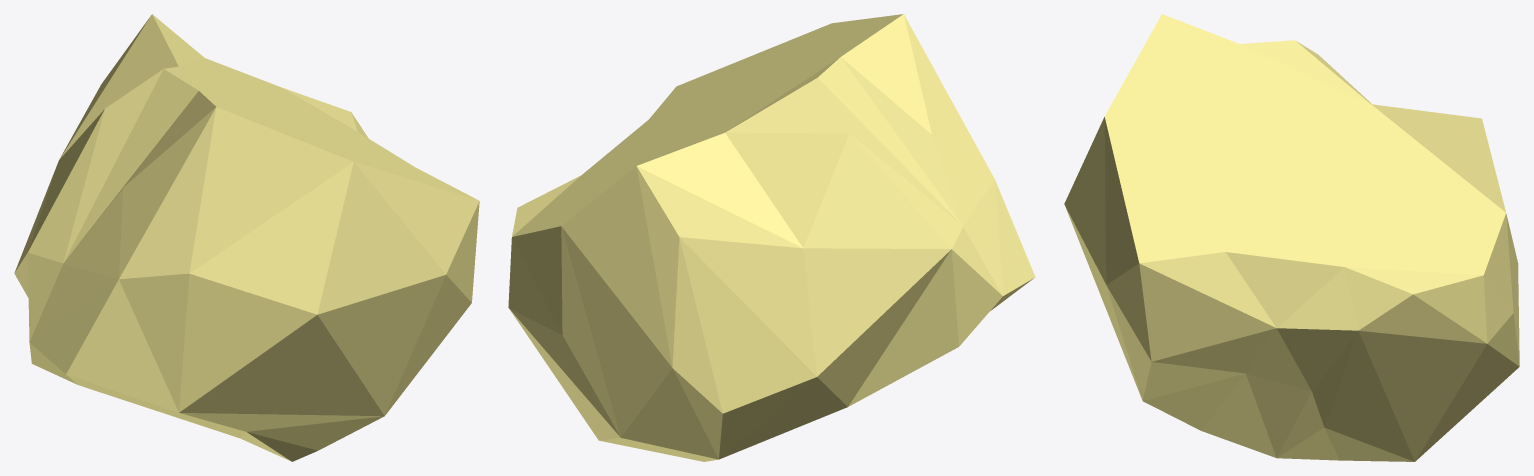
The model's file is Hill_007.glb.
3 renders of one model, left to right at view 1: azimuth 30°, elevation 25°; view 2: azimuth 150°, elevation 25°; view 3: azimuth 270°, elevation 25°, orthographic. The views are drawn at different scales.
Parts seen in each view (by area): view 1: Hill_007; view 2: Hill_007; view 3: Hill_007.
Part boxes in pixels (x1,y1,x2,y2): Hill_007: [14, 14, 479, 461]; Hill_007: [508, 14, 1035, 461]; Hill_007: [1064, 14, 1519, 461].
Bounding box in the file's own units: 0.6237 × 0.5772 × 0.627.
1 material, 1 textured.
